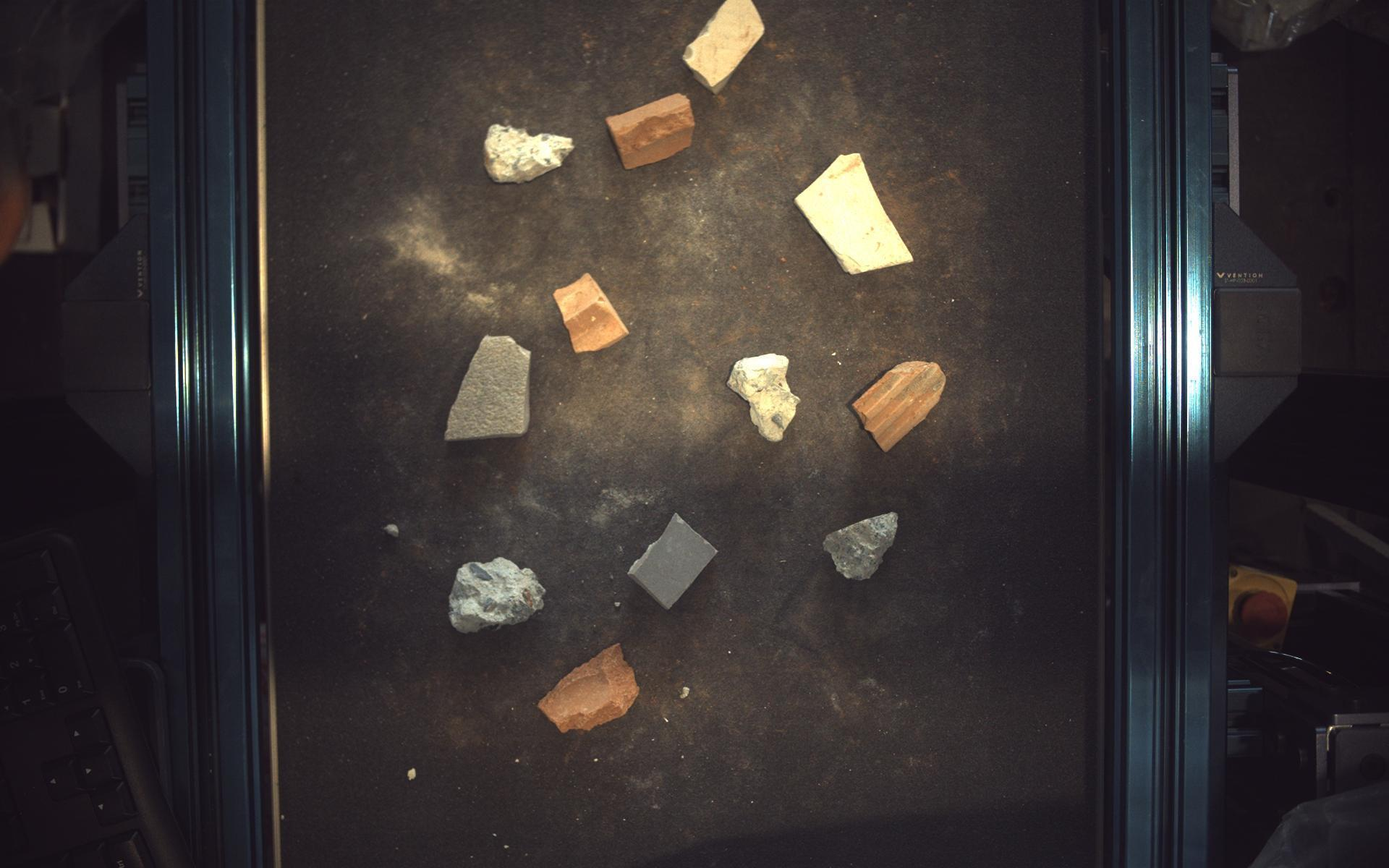brick: (539, 645, 640, 733), (854, 362, 948, 451), (606, 93, 696, 168), (553, 273, 629, 353)
concrete: (449, 558, 545, 634), (729, 353, 801, 442), (484, 124, 574, 182), (825, 513, 900, 581)
tile: (797, 152, 915, 274), (445, 336, 531, 441), (629, 514, 718, 609), (684, 1, 765, 92)
